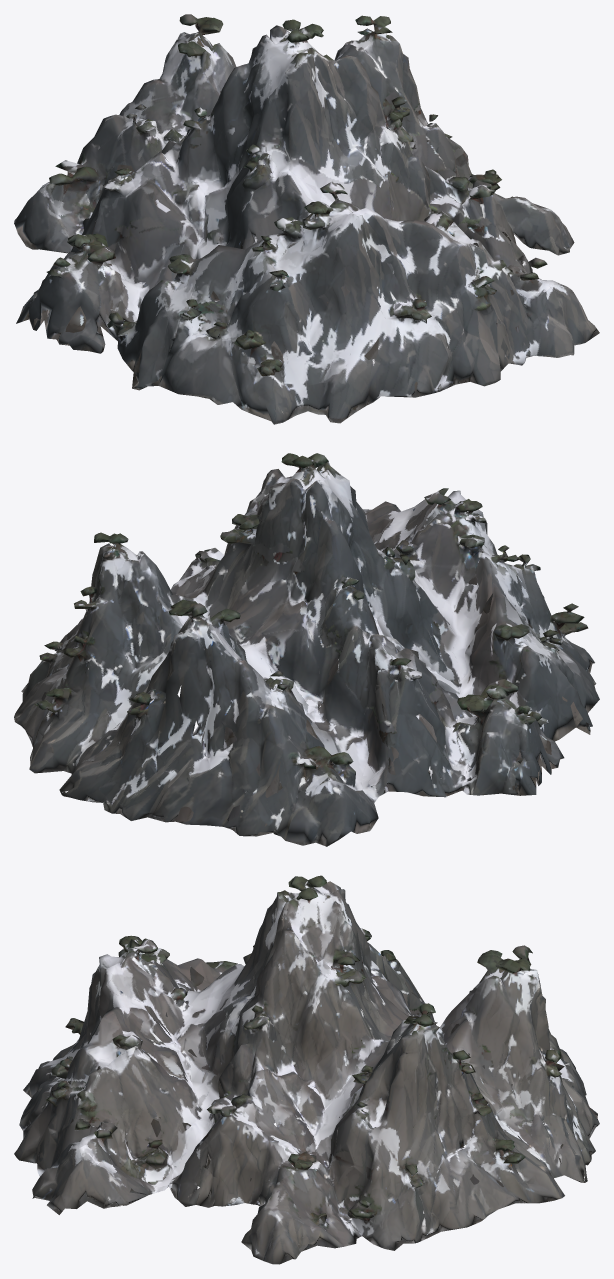
Rendered from SnowyRockyMountains.fbx.
The picture shows the model from 3 angles, top to bottom: view 1: azimuth 30°, elevation 25°; view 2: azimuth 150°, elevation 25°; view 3: azimuth 270°, elevation 25°; orthographic projection. The views are drawn at different scales.
Parts seen in each view (by area): view 1: SnowyRockyMountains; view 2: SnowyRockyMountains; view 3: SnowyRockyMountains.
Part boxes in pixels (x1=…): SnowyRockyMountains: x1=14, y1=14, x2=599, y2=424; SnowyRockyMountains: x1=14, y1=453, x2=599, y2=846; SnowyRockyMountains: x1=14, y1=875, x2=599, y2=1264.
Bounding box in the file's own units: 199 × 100 × 200.
Materials: 1 (1 with a texture image).
